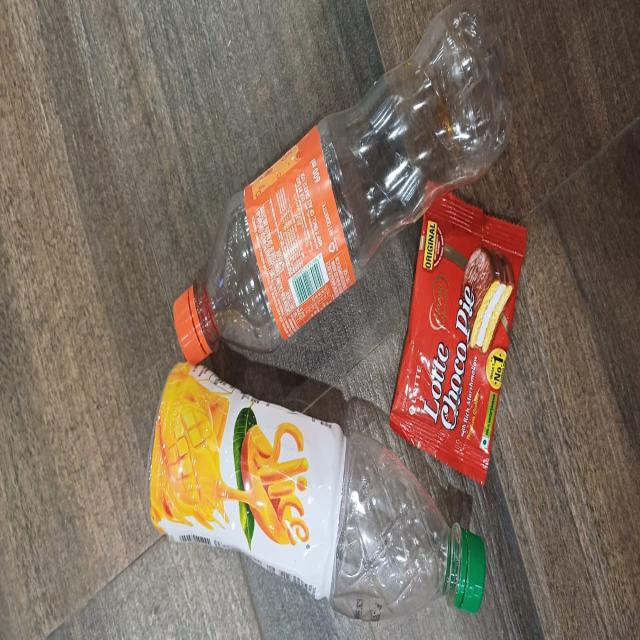Plastic-NonBio: (171, 1, 506, 372), (144, 347, 487, 637), (388, 147, 526, 490)
